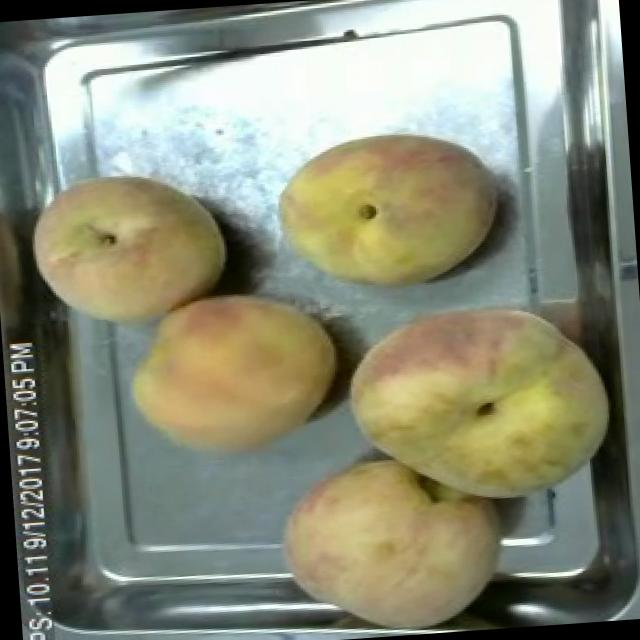Fruit: (329, 282, 627, 532), (264, 435, 515, 640), (260, 115, 510, 307), (112, 277, 350, 470), (13, 156, 239, 346)
